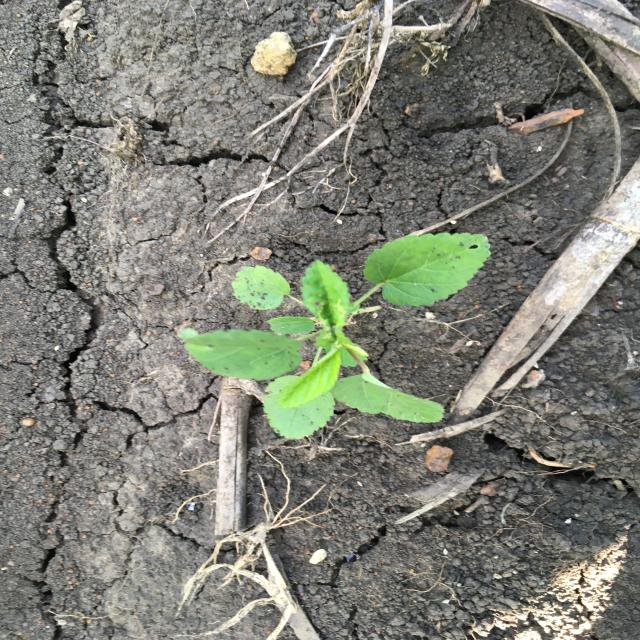PricklySida: (174, 230, 494, 442)
